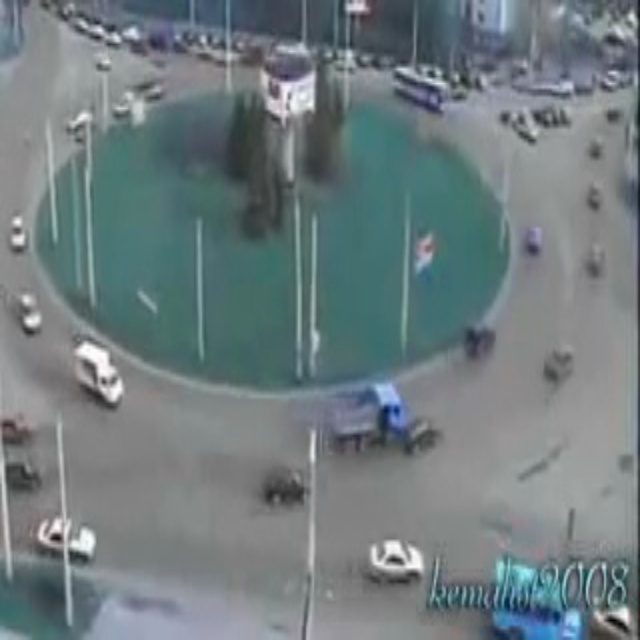acc: (319, 391, 437, 457)
